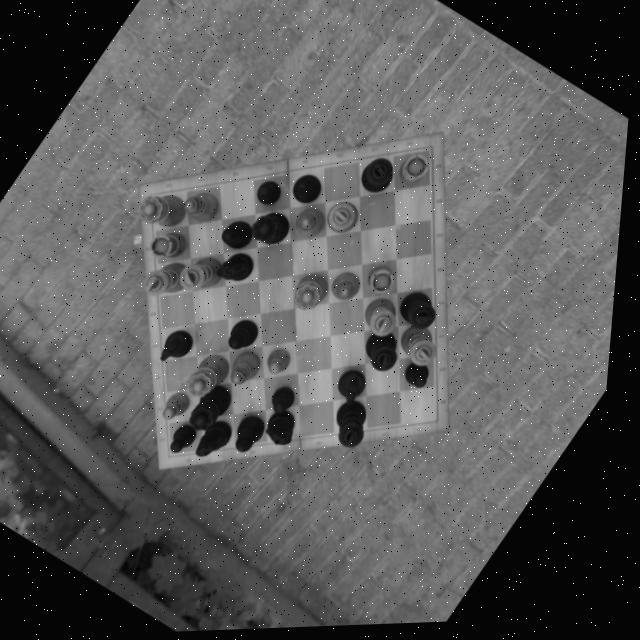chessboard: (153, 152, 443, 458)
